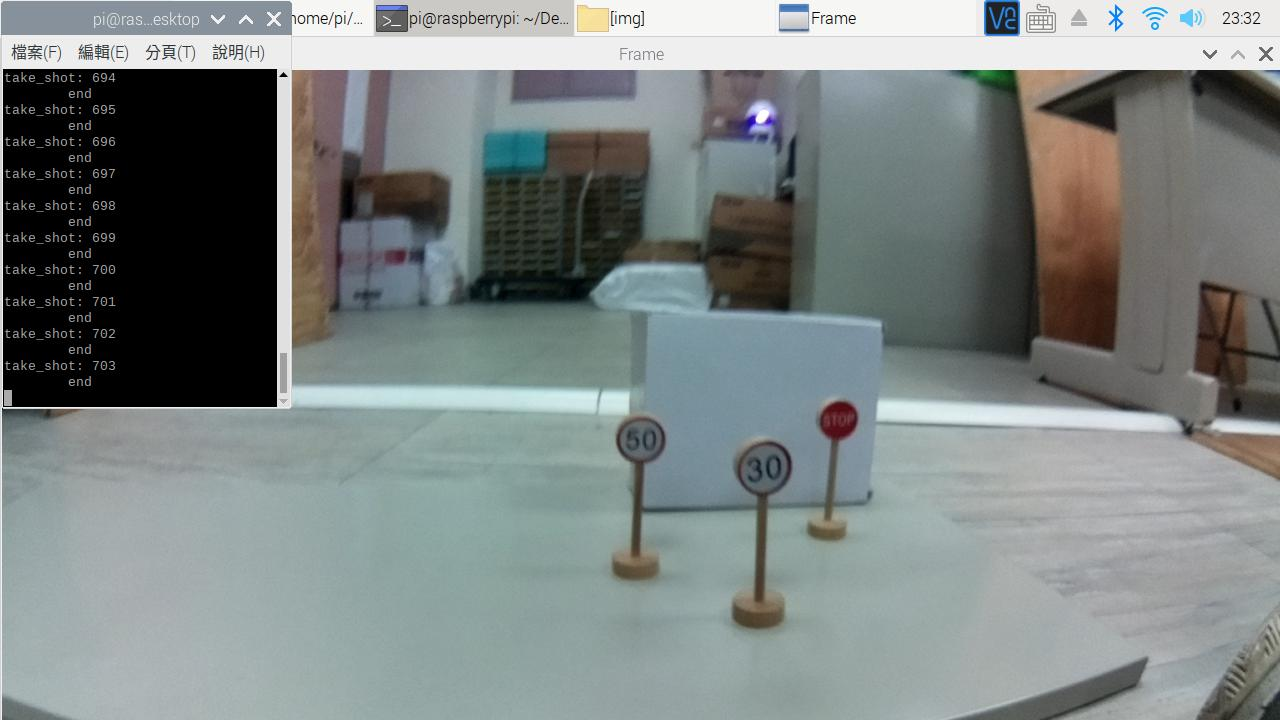Speed30: (727, 424, 789, 499)
Speed50: (603, 398, 676, 475)
Stop: (800, 387, 864, 444)
